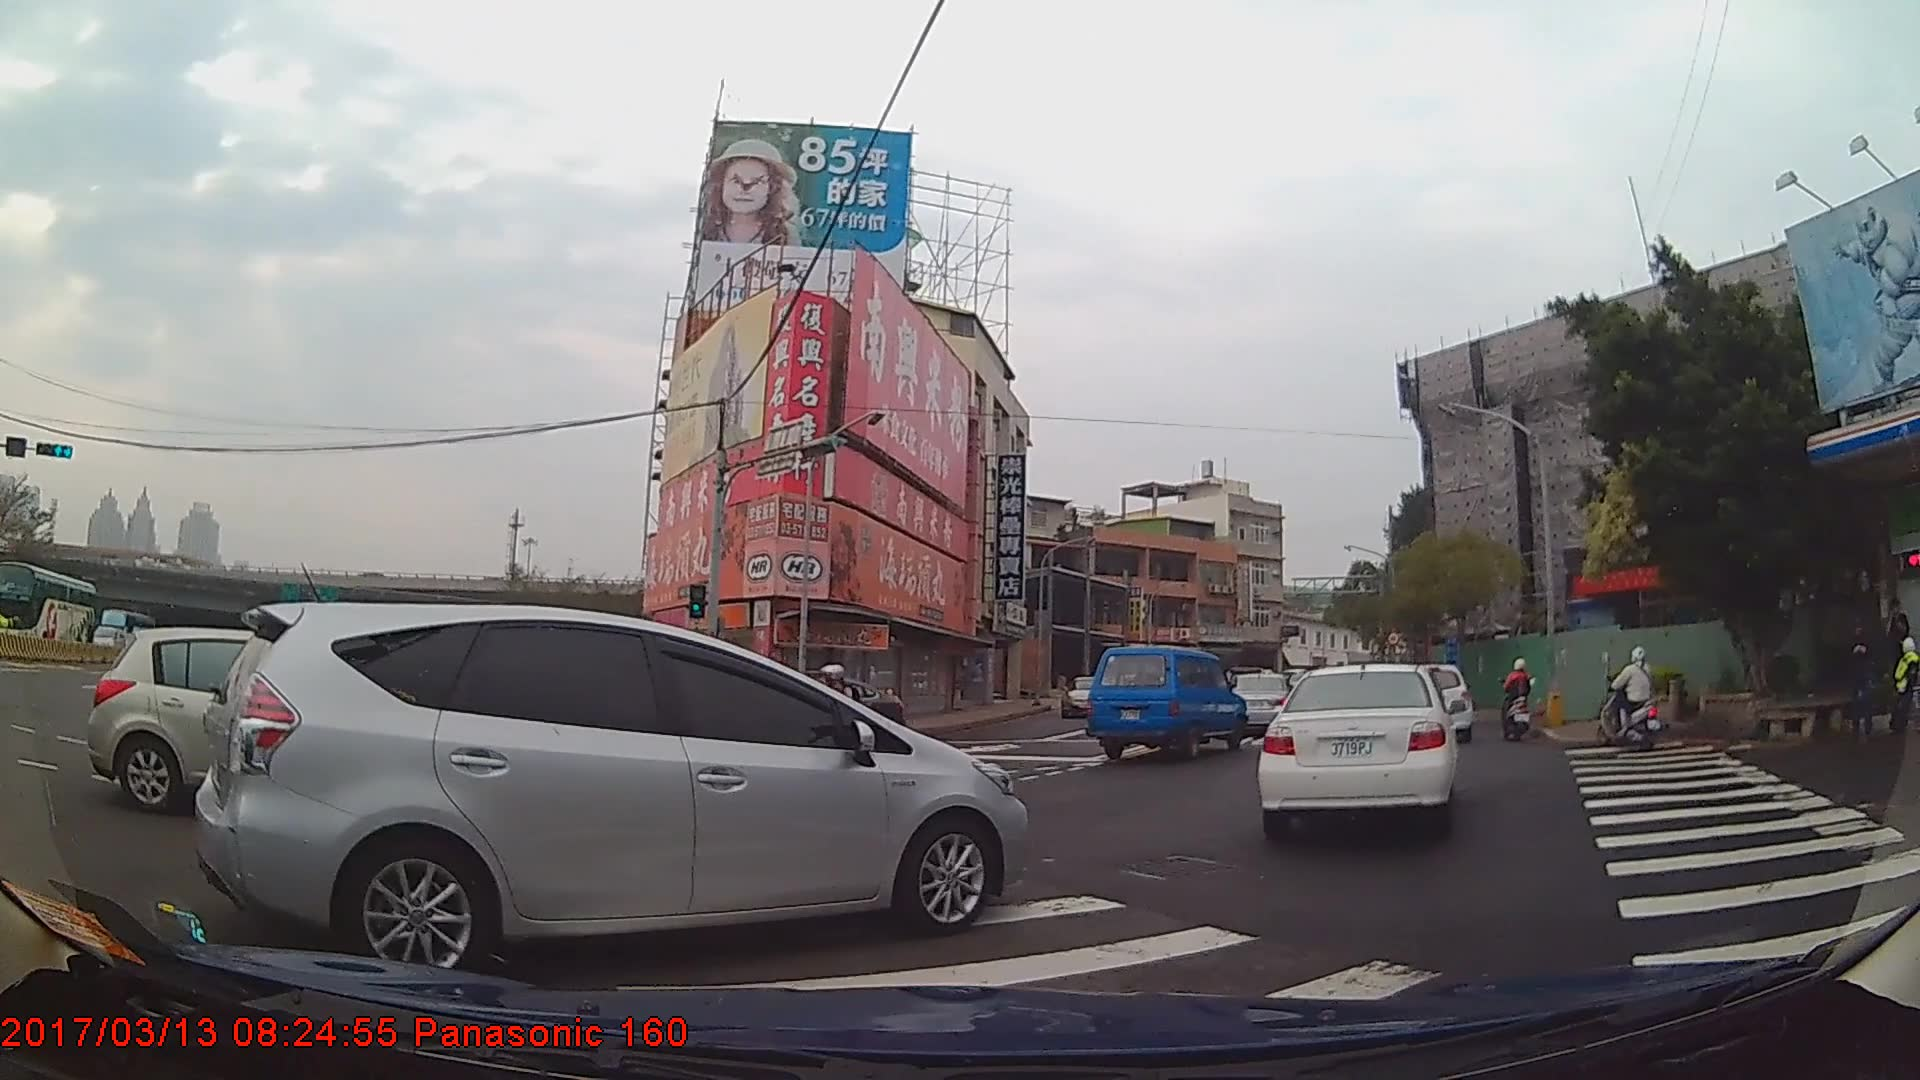pedestrian: (1838, 617, 1879, 742), (1869, 595, 1915, 693)
rider: (1599, 645, 1661, 749), (1499, 659, 1536, 742)
vehicle: (192, 601, 1029, 980), (85, 624, 423, 813), (1256, 663, 1457, 840), (1083, 647, 1244, 762), (0, 561, 92, 657), (1217, 671, 1290, 742)
